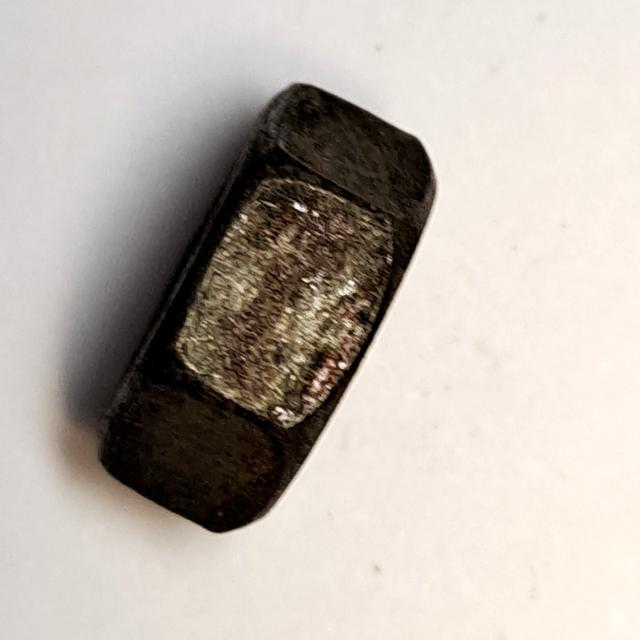Side_Rust: (83, 68, 460, 548)
